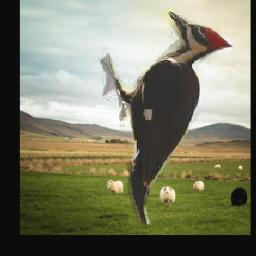Woodpecker: (99, 10, 233, 225)
